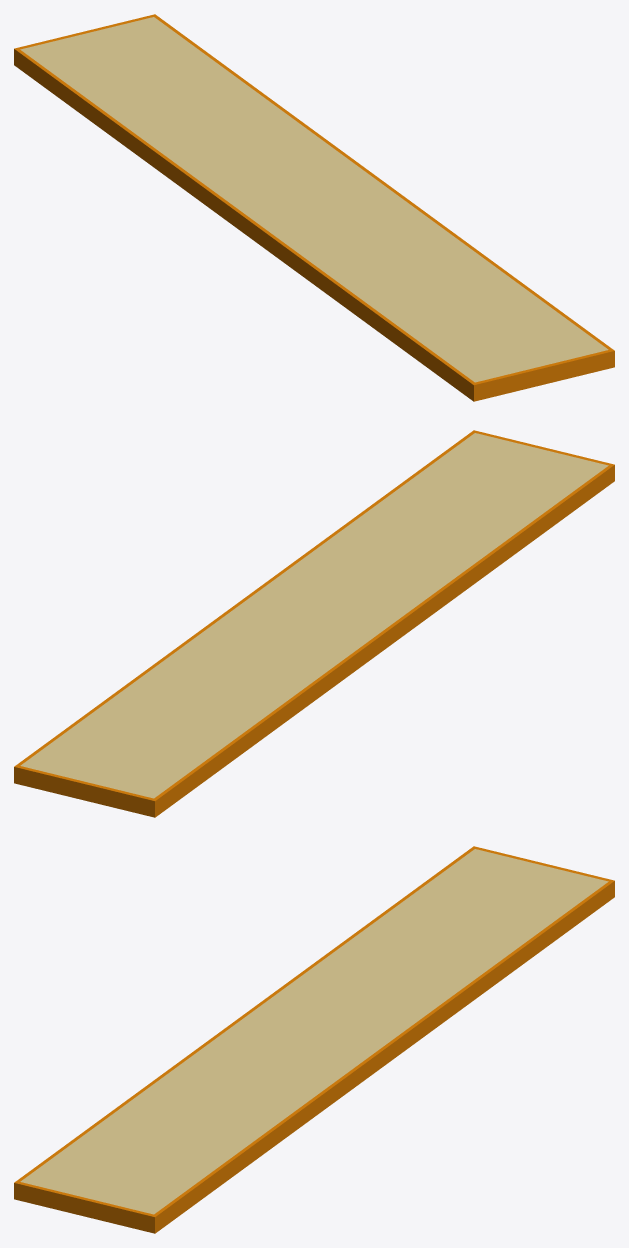
The model's file is Platform_Long_V1_01.fbx.
The picture shows the model from 3 angles, top to bottom: view 1: azimuth 30°, elevation 25°; view 2: azimuth 150°, elevation 25°; view 3: azimuth 330°, elevation 25°; orthographic projection.
Parts seen in each view (by area): view 1: Platform_Long_V1_00; view 2: Platform_Long_V1_00; view 3: Platform_Long_V1_00.
Boxes of the visible parts, x1,y1,x2,y2 form: Platform_Long_V1_00: (14,14,614,401); Platform_Long_V1_00: (14,430,614,817); Platform_Long_V1_00: (14,846,614,1233).
Size of the model in its own units: 7.78 by 0.8707 by 43.93.
